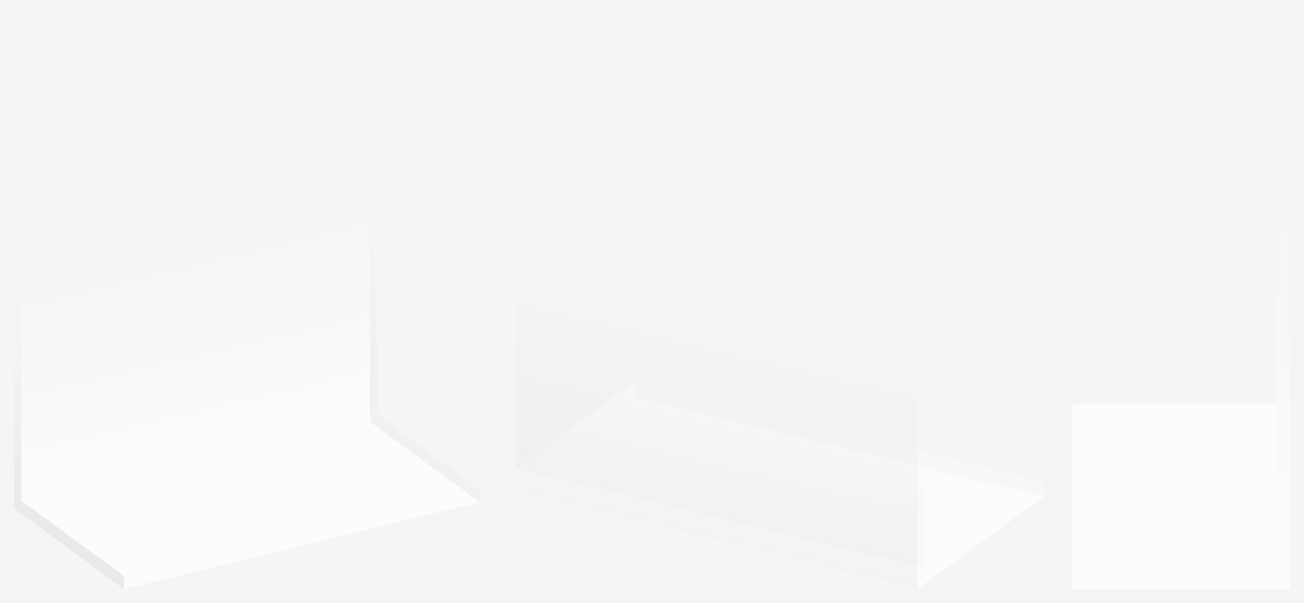
The model's file is board_base.glb.
The picture shows the model from 3 angles, left to right: view 1: azimuth 30°, elevation 25°; view 2: azimuth 150°, elevation 25°; view 3: azimuth 270°, elevation 25°; orthographic projection. The views are drawn at different scales.
Parts seen in each view (by area): view 1: pCube21; view 2: pCube21; view 3: pCube21.
Boxes of the visible parts, box(x1,y1,x2,y2) form: pCube21: box(14, 259, 479, 588); pCube21: box(508, 296, 1043, 588); pCube21: box(1072, 293, 1289, 588).
Size of the model in its own units: 0.6847 by 0.7498 by 0.3659.
Materials: 1 (1 with a texture image).
